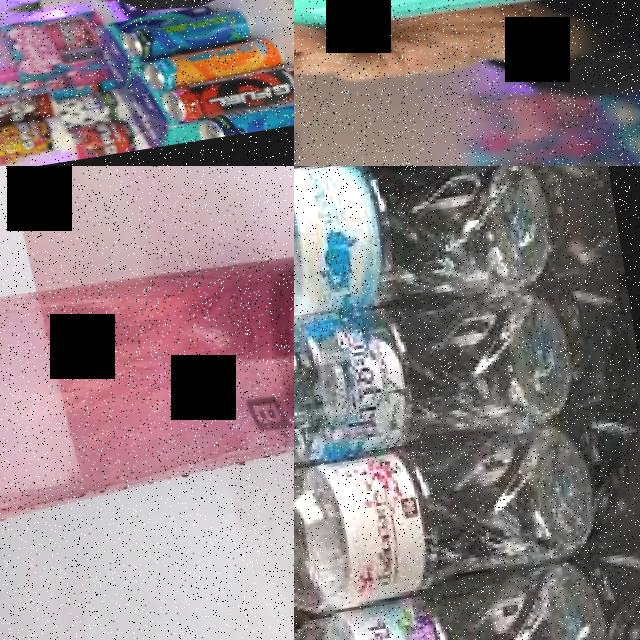bottle: (0, 230, 294, 543), (294, 413, 608, 631), (294, 271, 581, 477), (294, 166, 560, 348), (294, 554, 623, 640)
can: (294, 0, 640, 60)
